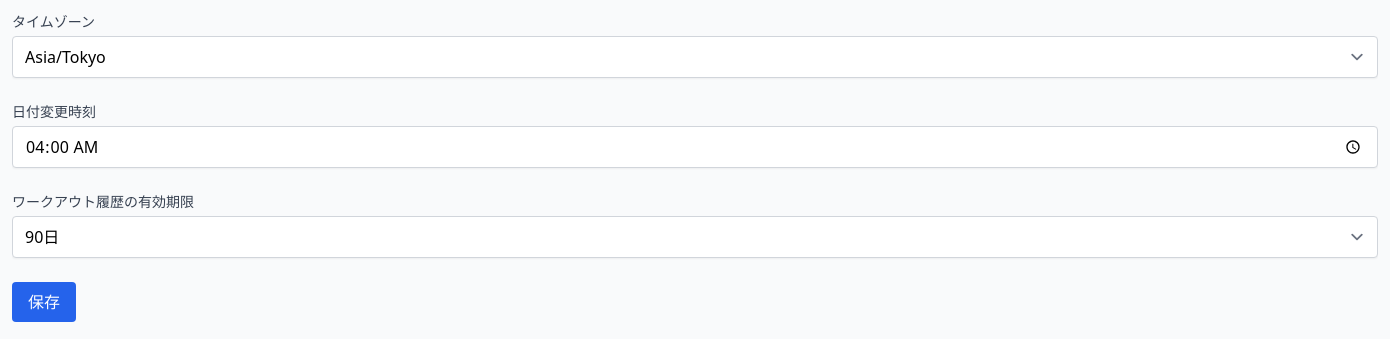
SettingsForm › disables button while loading
What coordinates should you click on to do the following:
click the button "保存"
I would click on:
 (44, 302)
Its box is [12, 282, 76, 322].
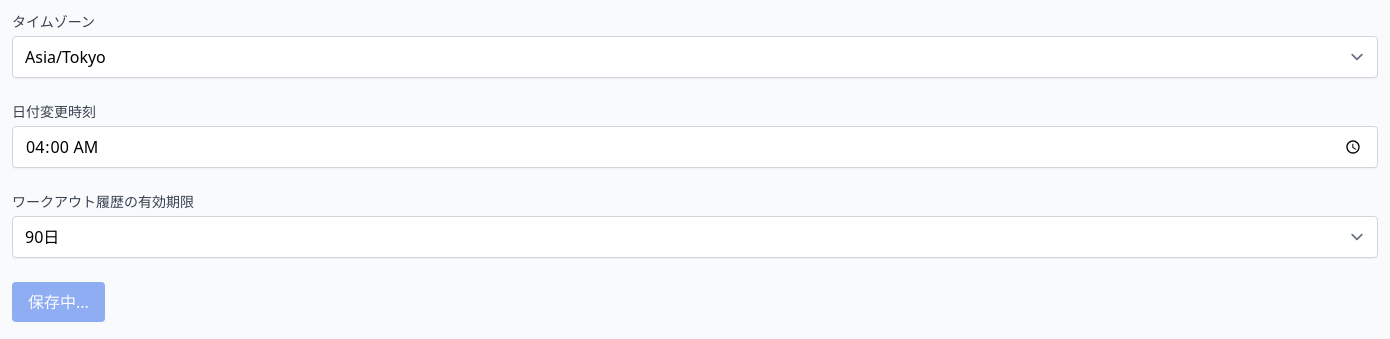
expect the button "保存中..." is disabled: met, box [12, 282, 105, 322]
